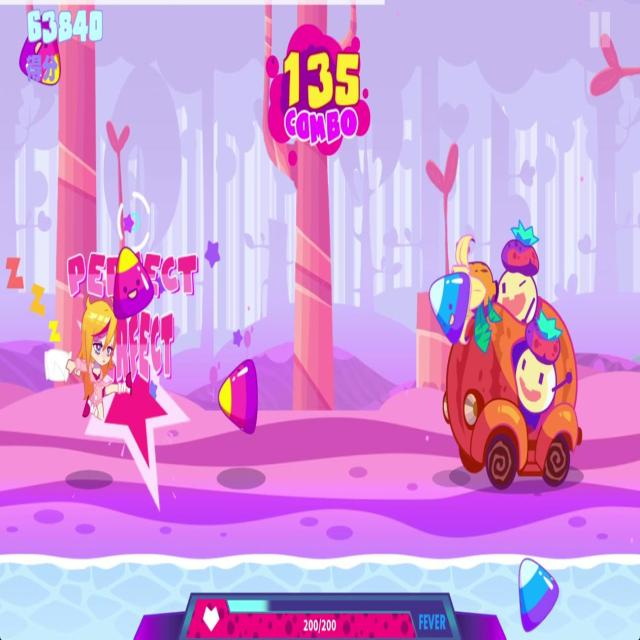cheboss: (441, 217, 587, 493)
jian: (17, 9, 66, 92), (426, 264, 472, 349), (218, 352, 262, 440), (516, 552, 561, 636), (109, 241, 156, 321)
